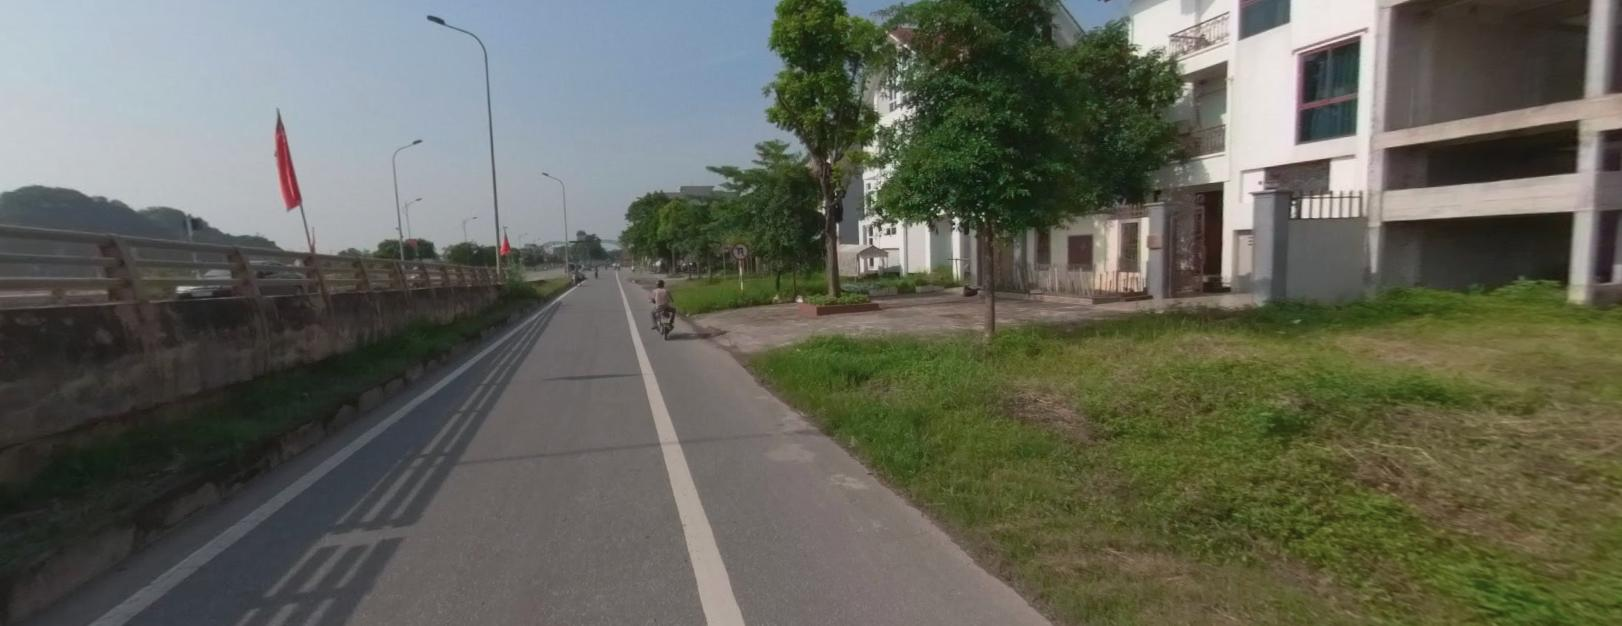Cam re: (732, 241, 748, 258), (732, 242, 748, 257)
